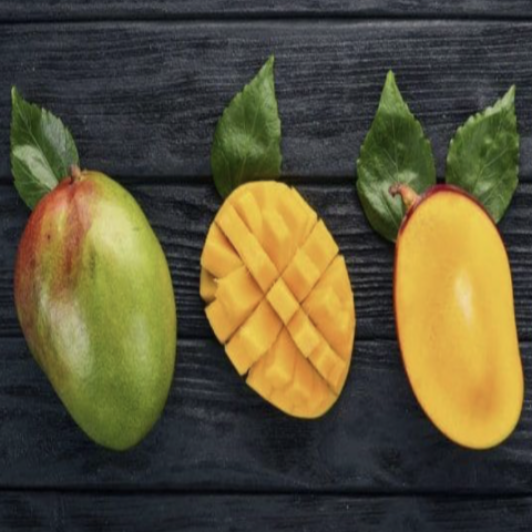mango: (8, 155, 185, 463), (191, 178, 359, 460), (377, 168, 531, 456)
